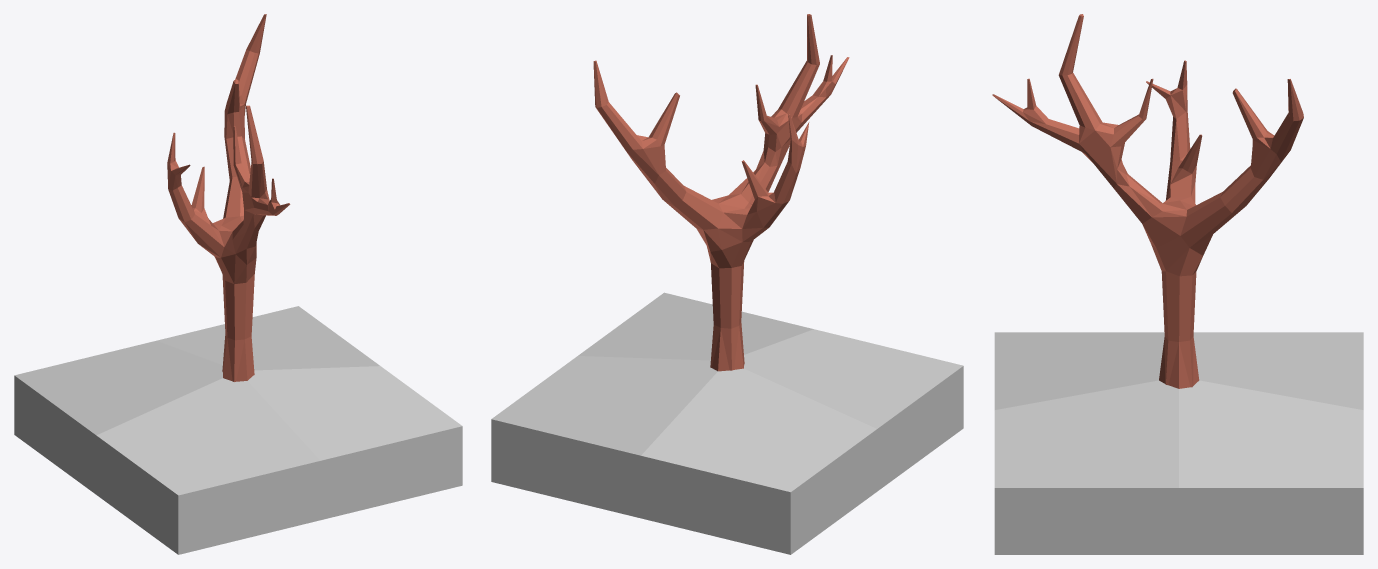
File: DeadTree.fbx
3 renders of one model, left to right at view 1: azimuth 30°, elevation 25°; view 2: azimuth 150°, elevation 25°; view 3: azimuth 270°, elevation 25°, orthographic. The views are drawn at different scales.
Visible parts, largest first — view 1: Cube.001, Cube; view 2: Cube.001, Cube; view 3: Cube.001, Cube.
Boxes of the visible parts, x1,y1,x2,y2 form: Cube.001: (14,306,462,554); Cube: (167,14,290,381); Cube.001: (491,292,963,554); Cube: (593,14,849,371); Cube.001: (994,332,1363,554); Cube: (992,14,1303,388).
Size of the model in its own units: 500 by 663 by 503.
